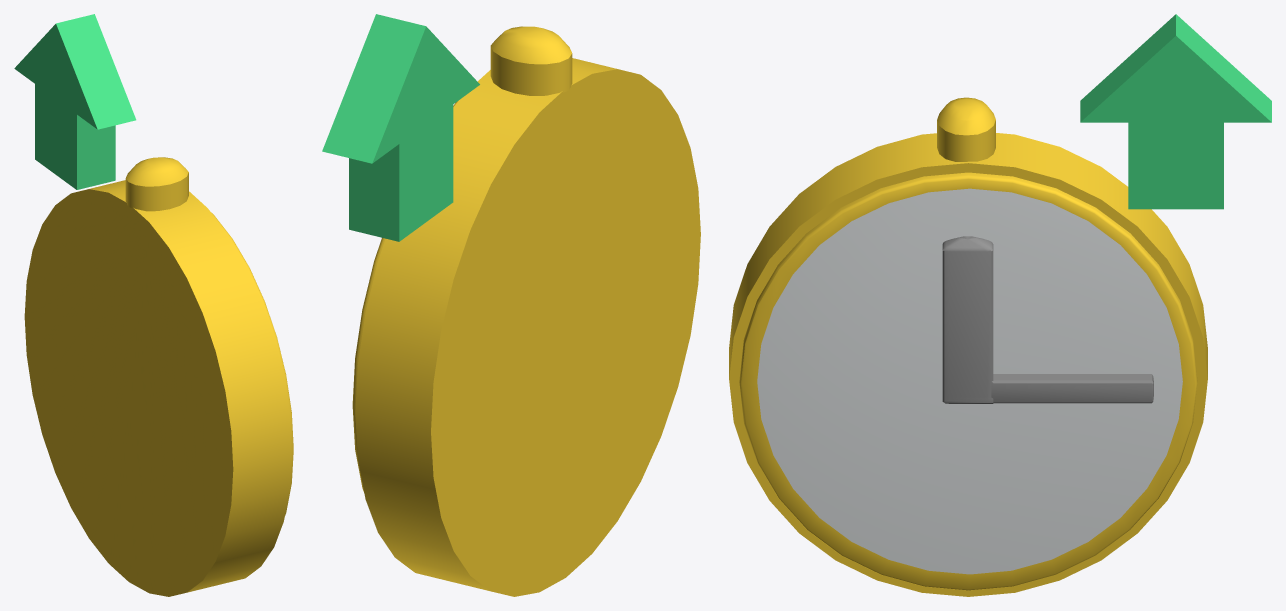
The model's file is clock3.fbx.
The picture shows the model from 3 angles, left to right: view 1: azimuth 30°, elevation 25°; view 2: azimuth 150°, elevation 25°; view 3: azimuth 270°, elevation 25°; orthographic projection. The views are drawn at different scales.
Visible parts, largest first — view 1: Circle.001; view 2: Circle.001; view 3: Circle.001.
Part boxes in pixels (x1,y1,x2,y2): Circle.001: (14, 14, 293, 596); Circle.001: (322, 14, 700, 596); Circle.001: (729, 14, 1271, 596).
Bounding box in the file's own units: 0.1416 × 0.8028 × 0.7051.
